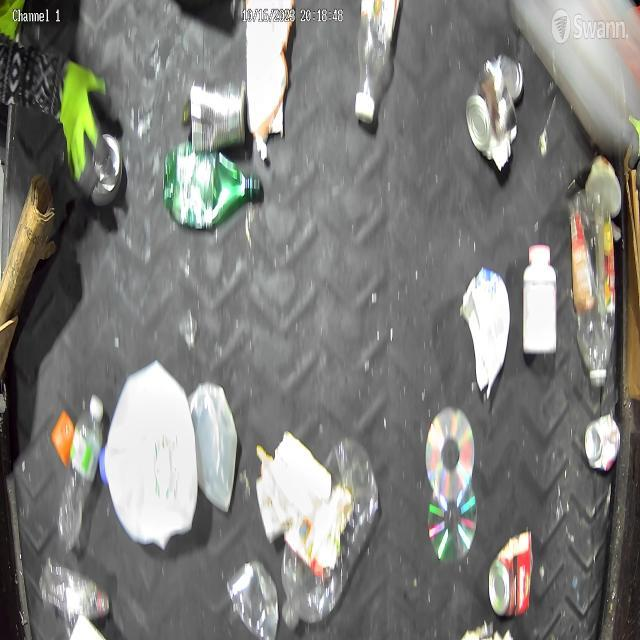can: (466, 52, 526, 183), (482, 522, 534, 621), (186, 79, 252, 155), (226, 553, 280, 639), (73, 129, 119, 198), (582, 406, 610, 479)
milk_jug: (98, 356, 200, 552), (185, 375, 240, 517)
plastic_bottle: (282, 439, 381, 640), (52, 387, 107, 558), (568, 190, 614, 391), (351, 0, 404, 134), (39, 550, 110, 630)
